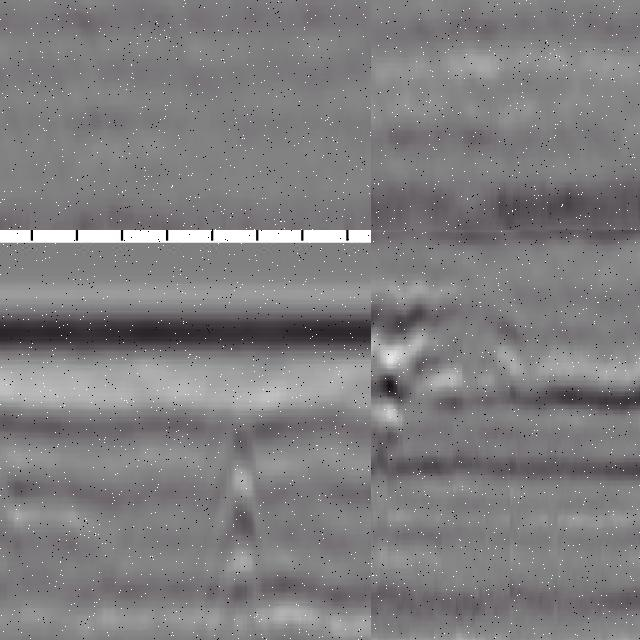crack: (216, 420, 266, 640)
loose: (372, 280, 516, 462)
